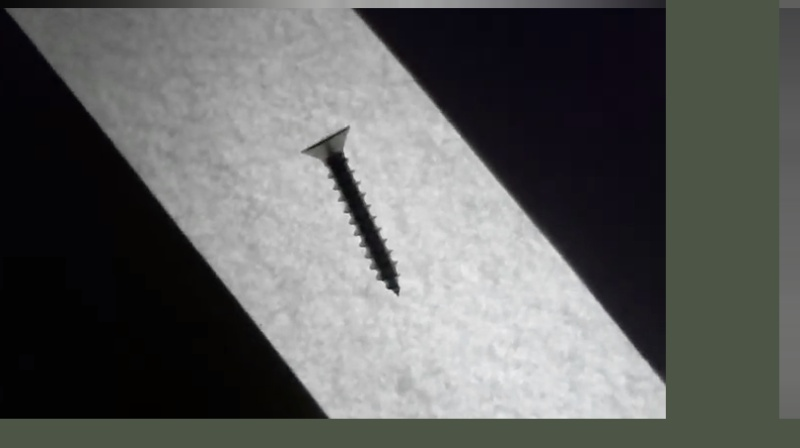S001: (297, 124, 403, 299)
